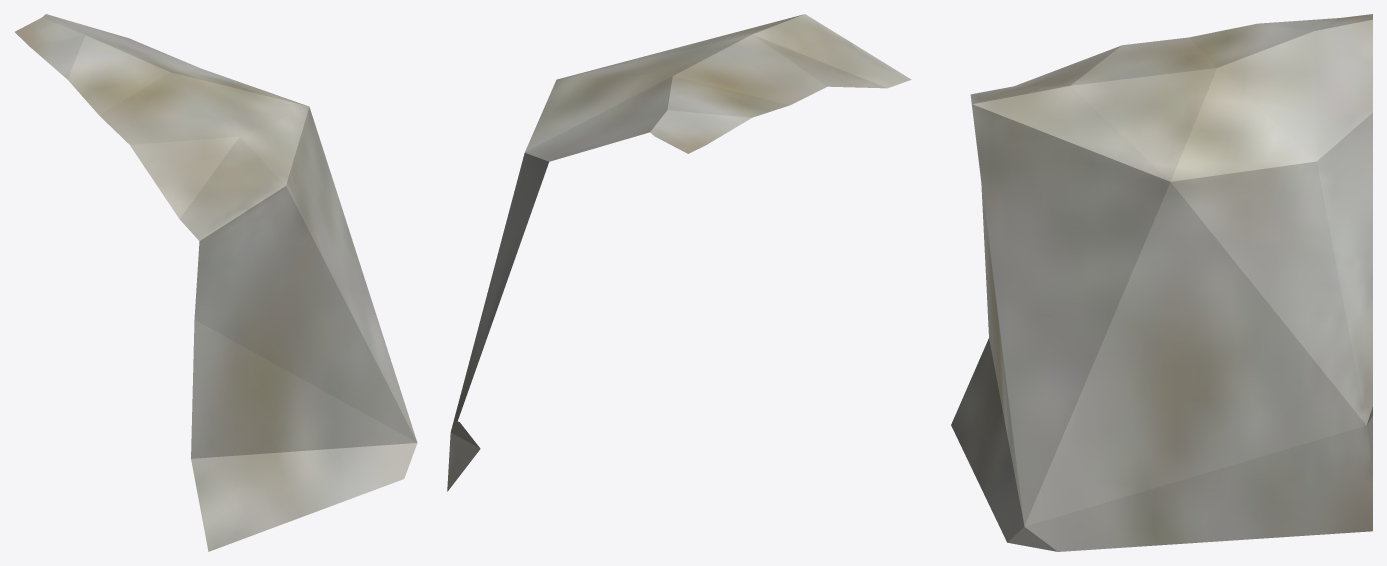
The picture shows the model from 3 angles, left to right: view 1: azimuth 30°, elevation 25°; view 2: azimuth 150°, elevation 25°; view 3: azimuth 270°, elevation 25°; orthographic projection. The views are drawn at different scales.
Bounding box in the file's own units: 6.23 × 9.51 × 8.62.
1 material, 1 textured.
